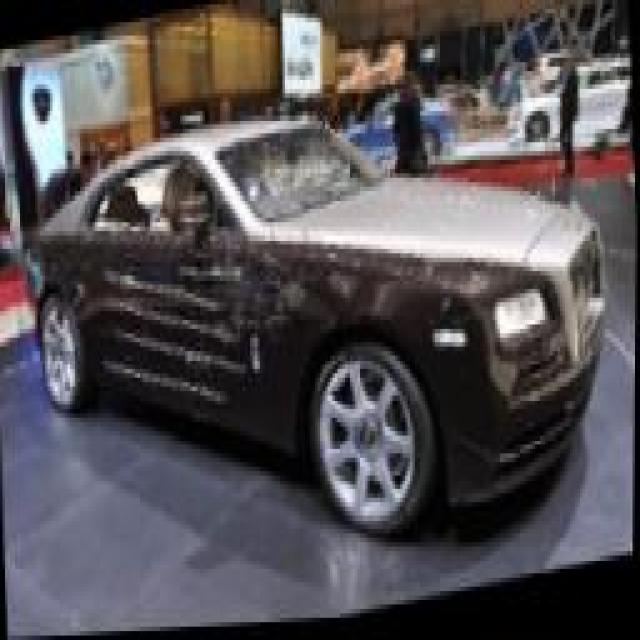Door: (78, 209, 245, 440)
Windshield: (219, 130, 374, 225)
